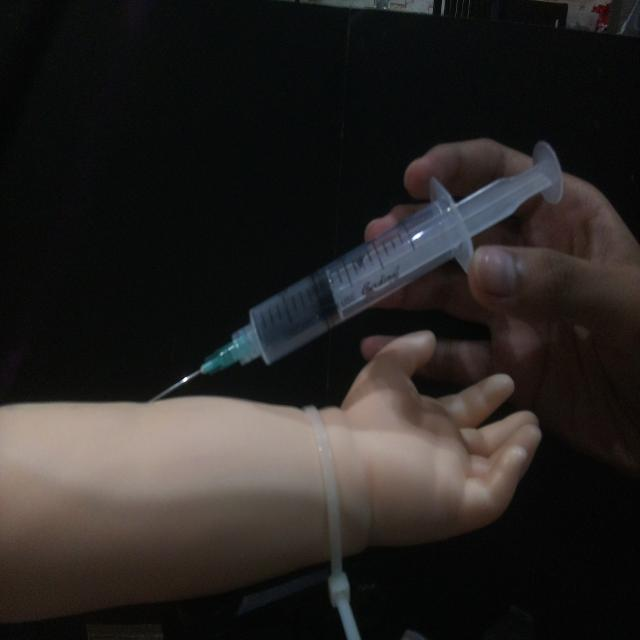20deg: (143, 135, 566, 405)
